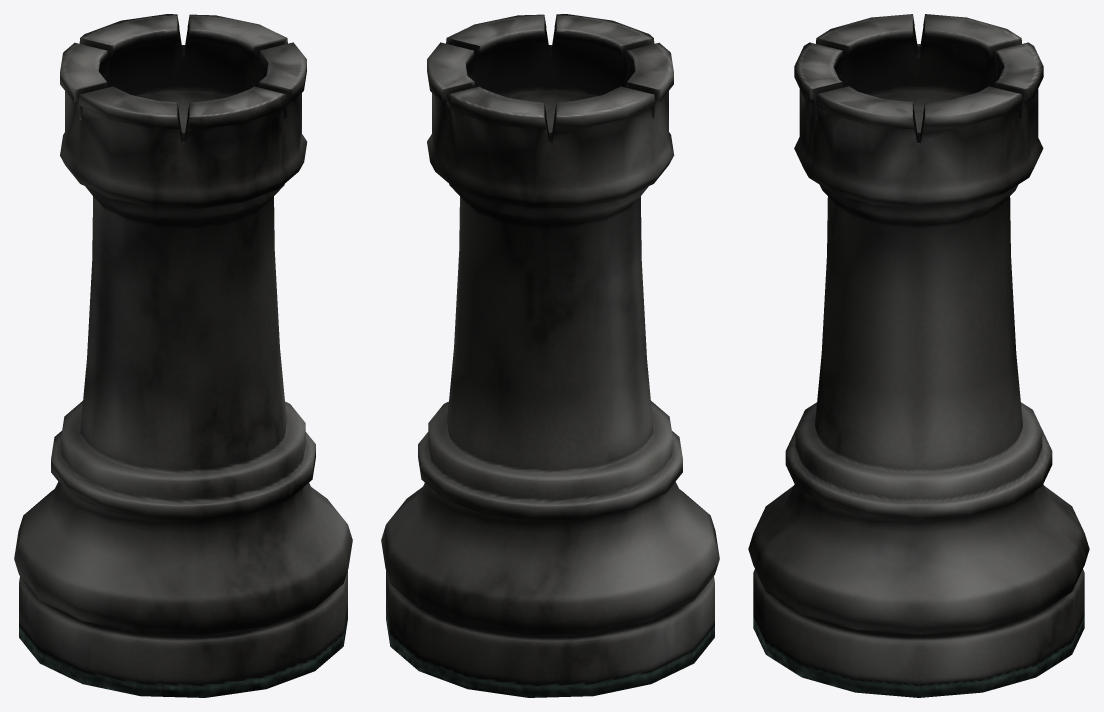
Rendered from ChessPieces_Rook_Black.gltf.
3 renders of one model, left to right at view 1: azimuth 30°, elevation 25°; view 2: azimuth 150°, elevation 25°; view 3: azimuth 270°, elevation 25°, orthographic.
Parts seen in each view (by area): view 1: ChessPieces_Rook_Black; view 2: ChessPieces_Rook_Black; view 3: ChessPieces_Rook_Black.
Boxes of the visible parts, bbox=[...] form: ChessPieces_Rook_Black: bbox=[14, 14, 352, 697]; ChessPieces_Rook_Black: bbox=[381, 14, 719, 697]; ChessPieces_Rook_Black: bbox=[748, 14, 1089, 697].
Size of the model in its own units: 0.0277 by 0.0502 by 0.0277.
Materials: 1 (1 with a texture image).
